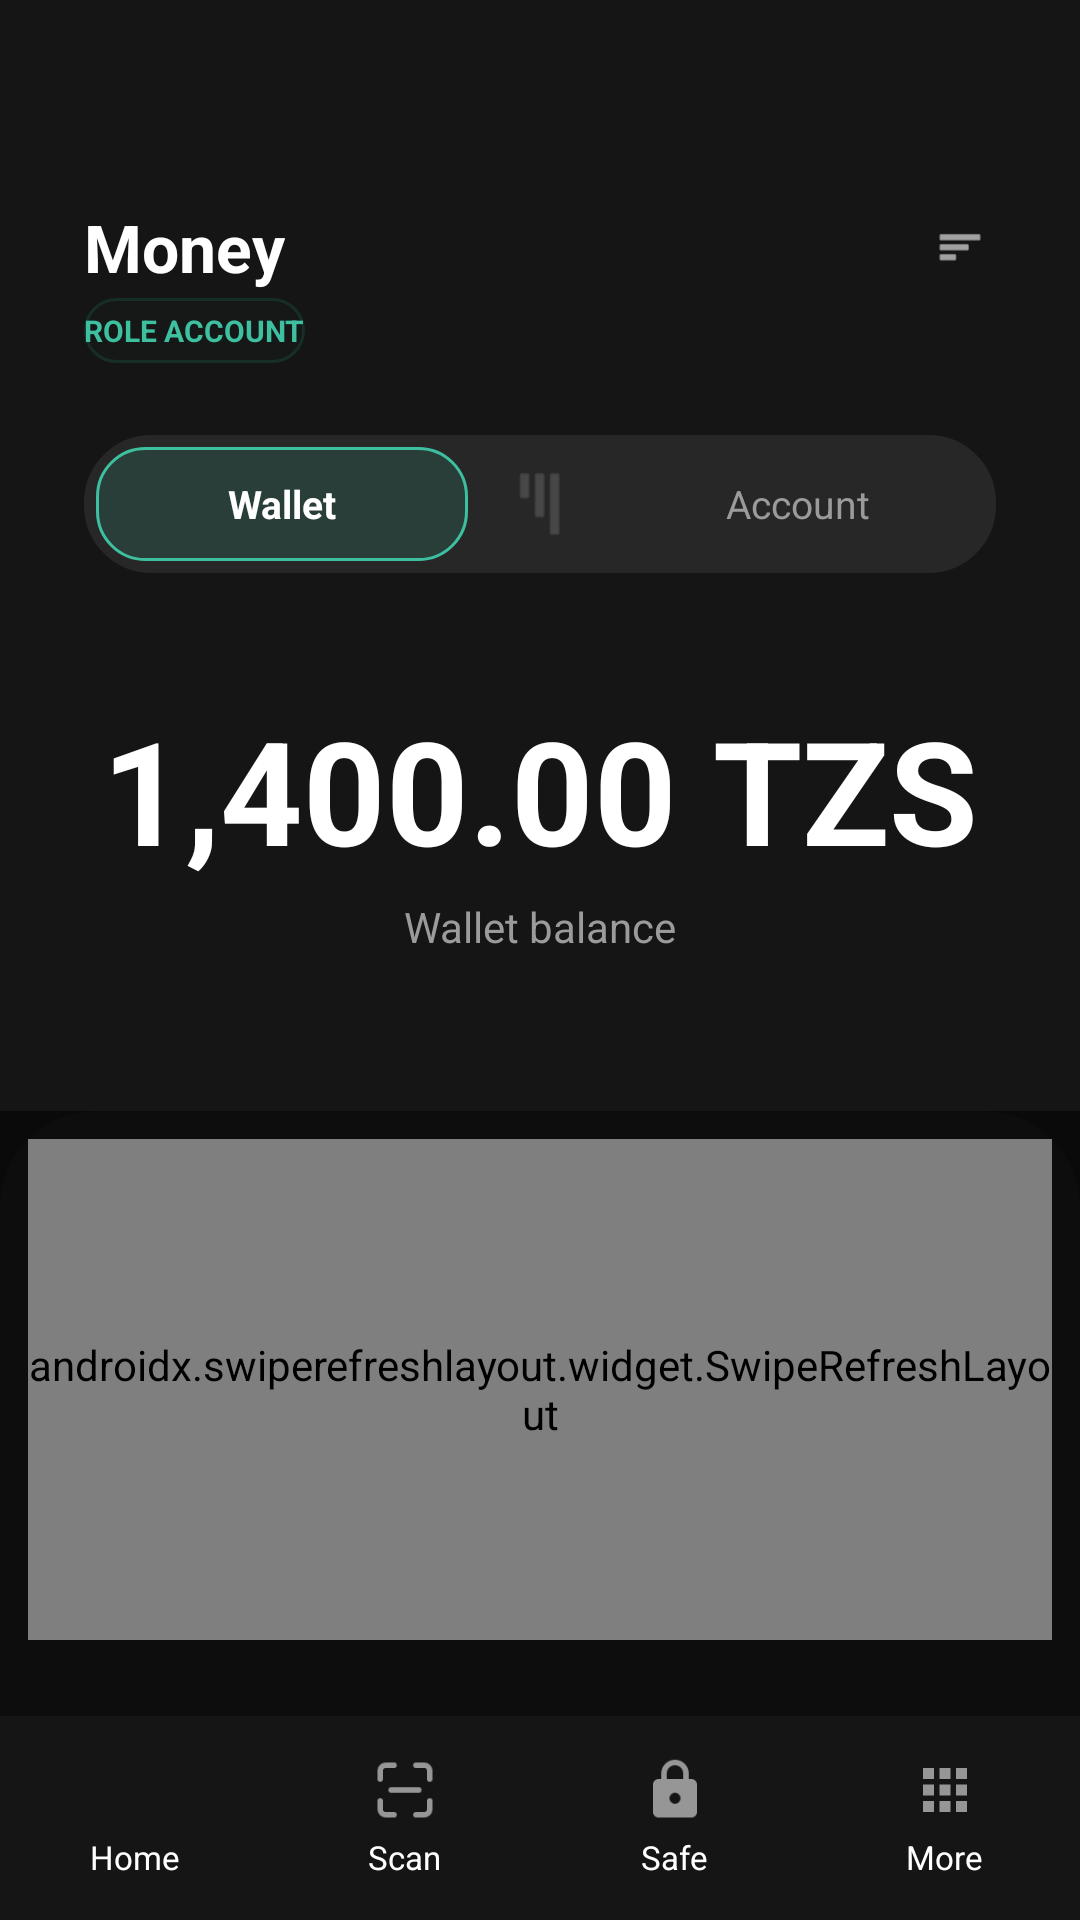

Icon click points for this 1080x1920 phone screenshot, format (x=x, y=y):
apps: (x=945, y=1790)
